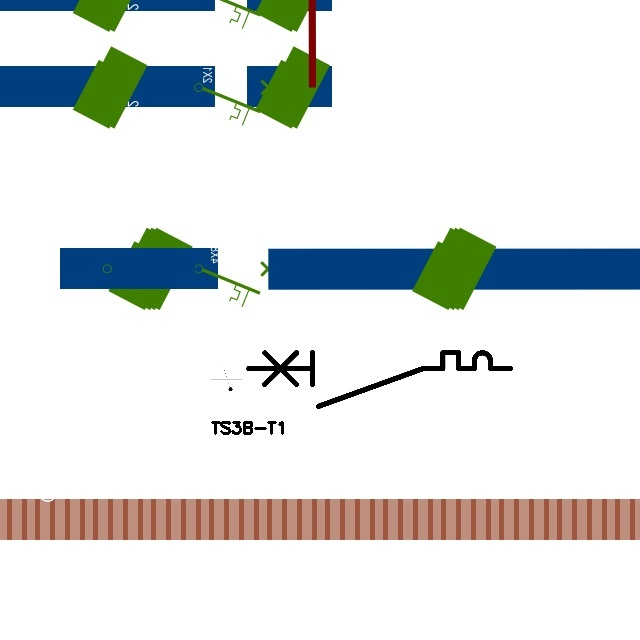interruptor_termomagnetico: (242, 346, 517, 413)
